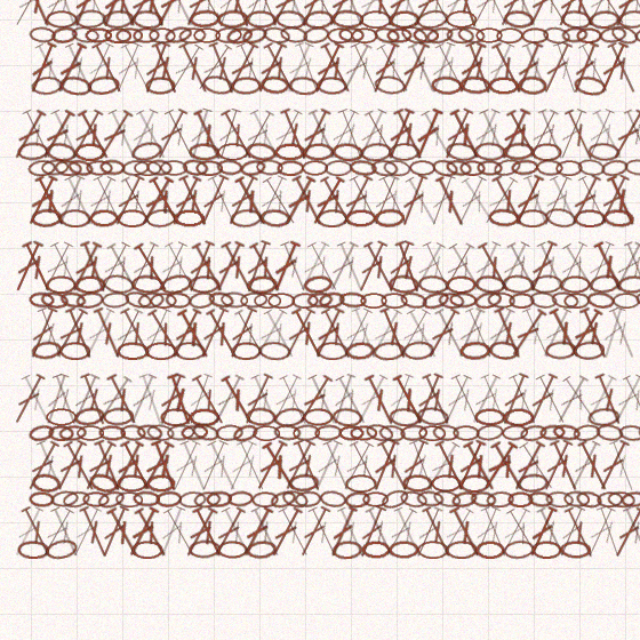chain: (89, 475, 118, 497), (152, 301, 182, 322), (52, 533, 82, 554), (189, 127, 218, 148), (127, 185, 156, 206), (489, 243, 518, 264), (64, 128, 94, 148), (514, 128, 544, 148), (377, 70, 406, 90), (52, 186, 81, 206), (227, 186, 256, 206), (402, 186, 431, 206), (252, 418, 281, 438), (377, 418, 407, 437), (362, 83, 389, 104), (546, 83, 573, 104), (345, 489, 372, 510), (89, 128, 118, 147), (102, 302, 131, 321), (77, 418, 106, 437), (97, 490, 124, 510), (340, 128, 368, 147), (528, 302, 556, 321), (40, 360, 68, 379), (440, 360, 468, 379), (102, 71, 131, 89), (527, 187, 556, 205), (214, 245, 243, 263), (239, 361, 268, 379), (339, 361, 368, 379), (527, 419, 556, 437), (223, 84, 249, 104), (381, 316, 407, 336), (215, 432, 241, 452), (248, 490, 274, 510), (40, 476, 67, 495), (128, 71, 156, 89), (253, 71, 281, 89), (278, 71, 306, 89), (453, 71, 481, 89), (503, 71, 531, 89), (528, 71, 556, 89), (553, 71, 581, 89), (40, 129, 68, 147), (265, 129, 293, 147), (303, 187, 331, 205), (328, 187, 356, 205), (140, 245, 168, 263), (240, 245, 268, 263), (540, 245, 568, 263), (228, 303, 256, 321), (378, 303, 406, 321), (428, 303, 456, 321), (553, 303, 581, 321), (303, 419, 331, 437), (353, 419, 381, 437), (228, 535, 256, 553), (303, 535, 331, 553), (453, 535, 481, 553), (156, 84, 182, 103), (444, 200, 470, 219), (121, 316, 147, 335), (427, 316, 453, 335), (180, 432, 206, 451), (332, 432, 358, 451), (258, 490, 284, 509), (391, 490, 417, 509), (452, 303, 481, 320), (477, 303, 506, 320), (278, 303, 305, 321), (315, 361, 342, 379), (78, 71, 106, 88), (178, 71, 206, 88), (303, 71, 331, 88), (128, 303, 156, 320), (365, 361, 393, 378), (490, 361, 518, 378), (265, 477, 293, 494), (465, 477, 493, 494), (178, 535, 206, 552), (242, 85, 268, 103), (385, 85, 411, 103), (487, 85, 513, 103), (538, 201, 564, 219), (362, 317, 388, 335), (467, 433, 493, 451), (67, 491, 93, 509), (362, 491, 388, 509), (203, 71, 230, 88), (240, 129, 267, 146), (390, 129, 417, 146), (415, 129, 442, 146), (28, 187, 55, 204), (428, 187, 455, 204), (453, 187, 480, 204), (40, 245, 67, 262), (340, 245, 367, 262), (440, 245, 467, 262), (353, 303, 380, 320), (415, 361, 442, 378), (515, 361, 542, 378), (103, 419, 130, 436), (228, 419, 255, 436), (210, 85, 235, 103), (339, 85, 364, 103), (71, 201, 96, 219), (222, 201, 247, 219), (390, 201, 415, 219), (402, 201, 427, 219), (37, 433, 62, 451), (407, 491, 432, 509), (516, 491, 541, 509), (53, 72, 81, 88), (328, 72, 356, 88), (465, 246, 493, 262), (515, 246, 543, 262), (115, 362, 143, 378), (140, 362, 168, 378), (165, 362, 193, 378), (290, 362, 318, 378), (315, 478, 343, 494), (28, 536, 56, 552), (128, 536, 156, 552), (378, 536, 406, 552), (403, 536, 431, 552), (257, 85, 283, 102), (466, 129, 492, 146), (228, 72, 255, 88), (353, 72, 380, 88), (403, 72, 430, 88), (140, 130, 167, 146), (215, 130, 242, 146), (290, 130, 317, 146), (440, 130, 467, 146), (78, 188, 105, 204), (178, 188, 205, 204), (203, 188, 230, 204), (253, 188, 280, 204), (278, 188, 305, 204), (353, 188, 380, 204), (478, 188, 505, 204), (65, 246, 92, 262), (115, 246, 142, 262), (165, 246, 192, 262), (290, 246, 317, 262), (315, 246, 342, 262), (53, 304, 80, 320), (78, 304, 105, 320), (178, 304, 205, 320), (403, 304, 430, 320), (503, 304, 530, 320), (65, 362, 92, 378), (215, 362, 242, 378), (53, 420, 80, 436), (153, 420, 180, 436), (178, 420, 205, 436), (278, 420, 305, 436), (428, 420, 455, 436), (453, 420, 480, 436), (115, 478, 142, 494), (365, 478, 392, 494), (390, 478, 417, 494), (415, 478, 442, 494), (203, 536, 230, 552), (353, 536, 380, 552), (478, 536, 505, 552), (503, 536, 530, 552), (75, 85, 100, 102), (277, 85, 302, 102), (413, 85, 438, 102), (537, 85, 562, 102), (518, 201, 543, 218), (48, 317, 73, 334), (79, 317, 104, 334), (177, 317, 202, 334), (194, 317, 219, 334), (476, 317, 501, 334), (495, 317, 520, 334), (526, 317, 551, 334), (568, 317, 593, 334), (141, 433, 166, 450), (429, 433, 454, 450), (496, 433, 521, 450), (514, 433, 539, 450), (534, 433, 559, 450), (57, 491, 82, 508), (292, 491, 317, 508), (91, 246, 117, 262), (141, 478, 167, 494), (329, 536, 355, 552), (429, 536, 455, 552), (57, 85, 81, 102), (172, 201, 196, 218), (65, 317, 89, 334), (133, 317, 157, 334), (291, 317, 315, 334), (132, 433, 156, 450), (169, 86, 194, 102), (403, 86, 428, 102), (568, 86, 593, 102), (37, 202, 62, 218), (60, 202, 85, 218), (119, 202, 144, 218), (318, 202, 343, 218), (337, 202, 362, 218), (348, 202, 373, 218), (64, 434, 89, 450), (169, 492, 194, 508), (182, 492, 207, 508), (438, 492, 463, 508), (490, 492, 515, 508), (544, 492, 569, 508), (396, 318, 420, 334), (344, 434, 368, 450), (554, 434, 578, 450), (314, 492, 338, 508), (424, 492, 448, 508), (474, 492, 498, 508), (556, 492, 580, 508), (559, 202, 584, 217), (309, 318, 334, 333), (439, 318, 464, 333), (201, 434, 226, 449), (252, 434, 277, 449), (270, 492, 295, 507), (377, 492, 402, 507), (38, 86, 62, 101), (201, 86, 225, 101), (504, 86, 528, 101), (49, 202, 73, 217), (202, 202, 226, 217), (237, 202, 261, 217), (460, 202, 484, 217), (482, 202, 506, 217), (102, 318, 126, 333), (157, 318, 181, 333), (206, 318, 230, 333), (223, 318, 247, 333), (281, 318, 305, 333), (406, 318, 430, 333), (159, 434, 183, 449), (171, 434, 195, 449), (269, 434, 293, 449), (288, 434, 312, 449), (363, 434, 387, 449), (391, 434, 415, 449), (571, 434, 595, 449), (129, 492, 153, 507), (309, 86, 332, 101), (374, 86, 397, 101), (100, 202, 123, 217), (141, 202, 164, 217), (38, 318, 61, 333), (118, 434, 141, 449), (452, 434, 475, 449), (485, 434, 508, 449), (149, 492, 172, 507), (193, 492, 216, 507), (212, 492, 235, 507), (506, 492, 529, 507), (87, 87, 111, 101), (104, 87, 128, 101), (114, 87, 138, 101), (129, 87, 153, 101), (143, 87, 167, 101), (182, 87, 206, 101), (320, 87, 344, 101), (429, 87, 453, 101), (447, 87, 471, 101), (469, 87, 493, 101), (88, 203, 112, 217), (130, 203, 154, 217), (153, 203, 177, 217), (184, 203, 208, 217), (255, 203, 279, 217), (297, 203, 321, 217), (499, 203, 523, 217), (576, 203, 600, 217), (144, 319, 168, 333), (235, 319, 259, 333), (247, 319, 271, 333), (268, 319, 292, 333), (328, 319, 352, 333), (346, 319, 370, 333), (549, 319, 573, 333), (80, 435, 104, 449), (99, 435, 123, 449), (234, 435, 258, 449), (319, 435, 343, 449), (379, 435, 403, 449), (409, 435, 433, 449), (85, 493, 109, 507), (114, 493, 138, 507), (233, 493, 257, 507), (299, 87, 322, 101), (351, 87, 374, 101), (517, 87, 540, 101), (277, 203, 300, 217), (371, 203, 394, 217), (415, 203, 438, 217), (430, 203, 453, 217), (458, 319, 481, 333), (506, 319, 529, 333), (55, 435, 78, 449), (309, 435, 332, 449), (38, 493, 61, 507), (330, 493, 353, 507), (457, 493, 480, 507), (535, 493, 558, 507), (576, 493, 599, 507)
double: (413, 215, 452, 263), (93, 389, 132, 437), (526, 41, 565, 88), (455, 331, 494, 378), (477, 41, 515, 89), (156, 99, 194, 147), (94, 157, 132, 205), (239, 215, 277, 263), (431, 215, 469, 263), (127, 273, 165, 321), (402, 273, 440, 321), (139, 331, 177, 379), (269, 389, 307, 437), (239, 447, 277, 495), (381, 447, 419, 495), (431, 447, 469, 495), (464, 447, 502, 495), (181, 99, 219, 146), (502, 389, 540, 436), (369, 41, 406, 89), (339, 99, 376, 147), (544, 157, 581, 205), (131, 215, 168, 263), (281, 215, 318, 263), (364, 215, 401, 263), (502, 273, 539, 321), (56, 331, 93, 379), (231, 331, 268, 379), (356, 331, 393, 379), (439, 447, 476, 495), (44, 505, 81, 553), (127, 505, 164, 553), (152, 505, 189, 553), (394, 505, 431, 553), (240, 98, 276, 147), (515, 98, 551, 147), (128, 156, 164, 205), (245, 156, 281, 205), (440, 214, 476, 263), (153, 272, 189, 321), (203, 272, 239, 321), (278, 272, 314, 321), (115, 330, 151, 379), (20, 388, 56, 437), (320, 388, 356, 437), (353, 388, 389, 437), (232, 446, 268, 495), (506, 331, 543, 378), (20, 41, 56, 89), (45, 41, 81, 89), (120, 41, 156, 89), (178, 41, 214, 89), (245, 41, 281, 89), (320, 41, 356, 89), (328, 41, 364, 89), (420, 41, 456, 89), (20, 157, 56, 205), (45, 157, 81, 205), (70, 157, 106, 205), (203, 157, 239, 205), (220, 157, 256, 205), (328, 157, 364, 205), (378, 157, 414, 205), (453, 157, 489, 205), (115, 215, 151, 263), (140, 215, 176, 263), (215, 215, 251, 263), (290, 215, 326, 263), (103, 273, 139, 321), (370, 273, 406, 321), (395, 273, 431, 321), (428, 273, 464, 321), (165, 331, 201, 379), (190, 331, 226, 379), (240, 331, 276, 379), (332, 331, 368, 379), (365, 331, 401, 379), (382, 331, 418, 379), (178, 389, 214, 437), (203, 389, 239, 437), (303, 389, 339, 437), (495, 389, 531, 437), (520, 389, 556, 437), (32, 447, 68, 495), (65, 447, 101, 495), (82, 447, 118, 495), (132, 447, 168, 495), (307, 447, 343, 495), (415, 447, 451, 495), (457, 447, 493, 495), (103, 505, 139, 553), (170, 505, 206, 553), (195, 505, 231, 553), (245, 505, 281, 553), (345, 505, 381, 553), (453, 505, 489, 553), (78, 40, 113, 89), (145, 40, 180, 89), (153, 40, 188, 89), (170, 40, 205, 89), (295, 40, 330, 89), (378, 40, 413, 89), (395, 40, 430, 89), (428, 40, 463, 89), (445, 40, 480, 89), (470, 40, 505, 89), (553, 40, 588, 89), (40, 98, 75, 147), (57, 98, 92, 147), (90, 98, 125, 147), (115, 98, 150, 147), (207, 98, 242, 147), (290, 98, 325, 147), (307, 98, 342, 147), (390, 98, 425, 147), (440, 98, 475, 147), (145, 156, 180, 205), (153, 156, 188, 205), (228, 156, 263, 205), (295, 156, 330, 205), (403, 156, 438, 205), (470, 156, 505, 205), (528, 156, 563, 205), (32, 214, 67, 263), (40, 214, 75, 263), (207, 214, 242, 263), (265, 214, 300, 263), (307, 214, 342, 263), (315, 214, 350, 263), (490, 214, 525, 263), (507, 214, 542, 263), (515, 214, 550, 263), (532, 214, 567, 263), (45, 272, 80, 321), (53, 272, 88, 321), (95, 272, 130, 321), (270, 272, 305, 321), (328, 272, 363, 321), (445, 272, 480, 321), (453, 272, 488, 321), (545, 272, 580, 321), (82, 330, 117, 379), (265, 330, 300, 379), (307, 330, 342, 379), (390, 330, 425, 379), (482, 330, 517, 379), (490, 330, 525, 379), (28, 388, 63, 437), (103, 388, 138, 437), (195, 388, 230, 437), (245, 388, 280, 437), (420, 388, 455, 437), (478, 388, 513, 437), (545, 388, 580, 437), (57, 446, 92, 495), (115, 446, 150, 495), (257, 446, 292, 495), (315, 446, 350, 495), (340, 446, 375, 495), (390, 446, 425, 495), (507, 446, 542, 495), (515, 446, 550, 495), (532, 446, 567, 495), (20, 504, 55, 553), (28, 504, 63, 553), (120, 504, 155, 553), (178, 504, 213, 553), (203, 504, 238, 553), (220, 504, 255, 553), (253, 504, 288, 553), (270, 504, 305, 553), (403, 504, 438, 553), (278, 41, 313, 89), (78, 157, 113, 205), (257, 215, 292, 263), (178, 273, 213, 321), (228, 273, 263, 321), (215, 331, 250, 379), (257, 331, 292, 379), (346, 40, 380, 89), (454, 40, 488, 89), (504, 40, 538, 89), (521, 40, 555, 89), (66, 98, 100, 147), (166, 98, 200, 147), (233, 98, 267, 147), (283, 98, 317, 147), (358, 98, 392, 147), (366, 98, 400, 147), (433, 98, 467, 147), (483, 98, 517, 147), (541, 98, 575, 147), (29, 156, 63, 205), (54, 156, 88, 205), (104, 156, 138, 205), (121, 156, 155, 205), (271, 156, 305, 205), (279, 156, 313, 205), (321, 156, 355, 205), (354, 156, 388, 205), (396, 156, 430, 205), (446, 156, 480, 205), (66, 214, 100, 263), (91, 214, 125, 263), (108, 214, 142, 263), (166, 214, 200, 263), (191, 214, 225, 263), (233, 214, 267, 263), (341, 214, 375, 263), (458, 214, 492, 263), (29, 272, 63, 321), (121, 272, 155, 321), (146, 272, 180, 321), (196, 272, 230, 321), (296, 272, 330, 321), (321, 272, 355, 321), (421, 272, 455, 321), (479, 272, 513, 321), (496, 272, 530, 321), (529, 272, 563, 321), (283, 330, 317, 379), (433, 330, 467, 379), (221, 388, 255, 437), (279, 388, 313, 437), (404, 388, 438, 437), (454, 388, 488, 437), (158, 446, 192, 495), (191, 446, 225, 495), (216, 446, 250, 495), (483, 446, 517, 495), (71, 504, 105, 553), (229, 504, 263, 553), (279, 504, 313, 553), (304, 504, 338, 553), (329, 504, 363, 553), (379, 504, 413, 553), (479, 504, 513, 553), (521, 504, 555, 553), (83, 215, 117, 263), (158, 215, 192, 263), (408, 215, 442, 263), (71, 273, 105, 321), (158, 331, 192, 379), (291, 331, 325, 379), (554, 389, 588, 437), (108, 447, 142, 495), (446, 505, 480, 553), (546, 505, 580, 553), (29, 40, 62, 89), (104, 40, 137, 89), (229, 40, 262, 89), (254, 40, 287, 89), (271, 40, 304, 89), (354, 40, 387, 89), (496, 40, 529, 89), (83, 98, 116, 147), (108, 98, 141, 147), (216, 98, 249, 147), (258, 98, 291, 147), (316, 98, 349, 147), (466, 98, 499, 147), (533, 98, 566, 147), (371, 156, 404, 205), (421, 156, 454, 205), (429, 156, 462, 205), (521, 156, 554, 205), (58, 214, 91, 263), (183, 214, 216, 263), (483, 214, 516, 263), (541, 214, 574, 263), (21, 272, 54, 321), (304, 272, 337, 321), (379, 272, 412, 321), (471, 272, 504, 321), (521, 272, 554, 321), (91, 330, 124, 379), (133, 330, 166, 379), (183, 330, 216, 379), (208, 330, 241, 379), (408, 330, 441, 379), (416, 330, 449, 379), (466, 330, 499, 379), (71, 388, 104, 437), (121, 388, 154, 437), (229, 388, 262, 437), (379, 388, 412, 437), (471, 388, 504, 437), (41, 446, 74, 495), (183, 446, 216, 495), (266, 446, 299, 495), (283, 446, 316, 495), (408, 446, 441, 495), (491, 446, 524, 495), (54, 504, 87, 553), (79, 504, 112, 553), (354, 504, 387, 553), (371, 504, 404, 553), (471, 504, 504, 553), (554, 504, 587, 553), (546, 41, 579, 89), (179, 157, 212, 205), (504, 157, 537, 205), (391, 215, 424, 263), (108, 331, 141, 379), (254, 389, 287, 437), (329, 389, 362, 437), (396, 389, 429, 437), (208, 447, 241, 495), (504, 505, 537, 553), (72, 40, 104, 89), (97, 40, 129, 89), (130, 40, 162, 89), (205, 40, 237, 89), (305, 40, 337, 89), (34, 98, 66, 147), (142, 98, 174, 147), (192, 98, 224, 147), (409, 98, 441, 147), (459, 98, 491, 147), (255, 156, 287, 205), (497, 156, 529, 205), (555, 156, 587, 205), (334, 214, 366, 263), (467, 214, 499, 263), (172, 272, 204, 321), (247, 272, 279, 321), (34, 330, 66, 379), (67, 330, 99, 379), (342, 330, 374, 379), (442, 330, 474, 379), (517, 330, 549, 379), (542, 330, 574, 379), (372, 388, 404, 437), (430, 388, 462, 437), (447, 388, 479, 437), (530, 388, 562, 437), (92, 446, 124, 495), (167, 446, 199, 495), (292, 446, 324, 495), (334, 446, 366, 495), (359, 446, 391, 495), (97, 504, 129, 553), (147, 504, 179, 553), (297, 504, 329, 553), (322, 504, 354, 553), (422, 504, 454, 553), (430, 504, 462, 553), (497, 504, 529, 553), (55, 40, 86, 89), (222, 40, 253, 89), (134, 98, 165, 147), (267, 98, 298, 147), (334, 98, 365, 147), (417, 98, 448, 147), (509, 98, 540, 147), (305, 156, 336, 205), (347, 156, 378, 205), (480, 156, 511, 205), (359, 214, 390, 263), (80, 272, 111, 321), (255, 272, 286, 321), (347, 272, 378, 321), (355, 272, 386, 321), (555, 272, 586, 321), (42, 330, 73, 379), (317, 330, 348, 379), (55, 388, 86, 437), (80, 388, 111, 437), (147, 388, 178, 437), (142, 446, 173, 495), (367, 446, 398, 495), (198, 40, 228, 89), (406, 40, 436, 89), (385, 98, 415, 147), (493, 98, 523, 147), (385, 214, 415, 263), (223, 272, 253, 321), (131, 388, 161, 437), (156, 388, 186, 437), (348, 388, 378, 437), (543, 446, 573, 495), (531, 504, 561, 553), (198, 156, 227, 205), (535, 330, 564, 379), (48, 388, 77, 437), (173, 388, 202, 437), (174, 156, 202, 205), (299, 388, 327, 437)
